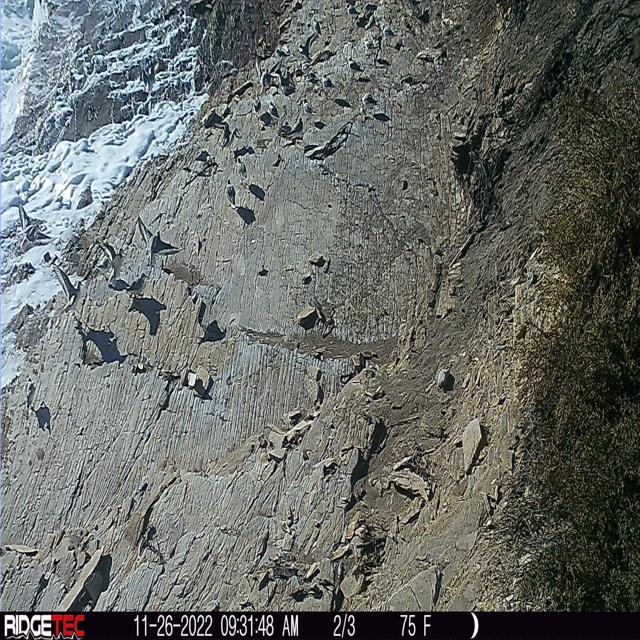bird: (206, 78, 340, 198)
